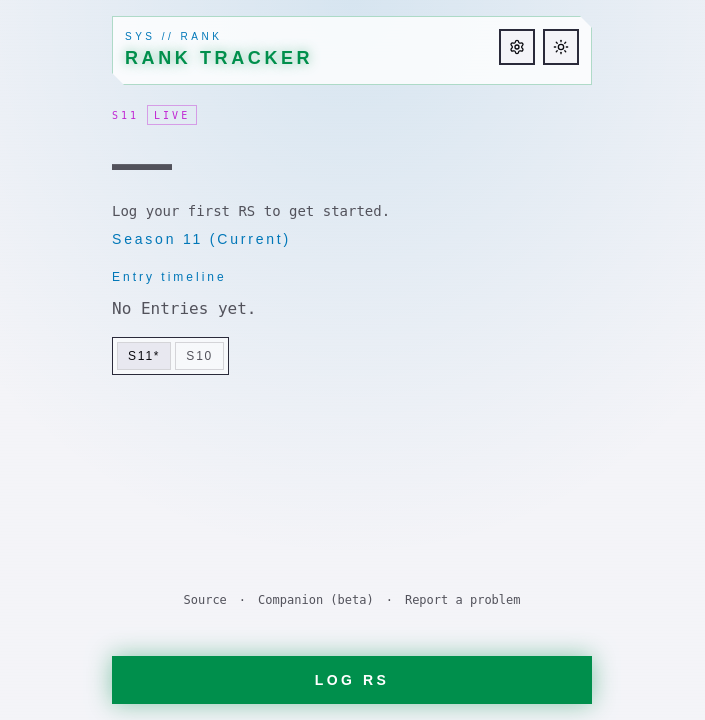
Test case: header eyebrow updates rank when selected season changes
Check: the text "SYS // RANK" is shown, box [125, 31, 222, 42]
Click the radio button labelled "S10" at (200, 356), box [175, 342, 224, 370]
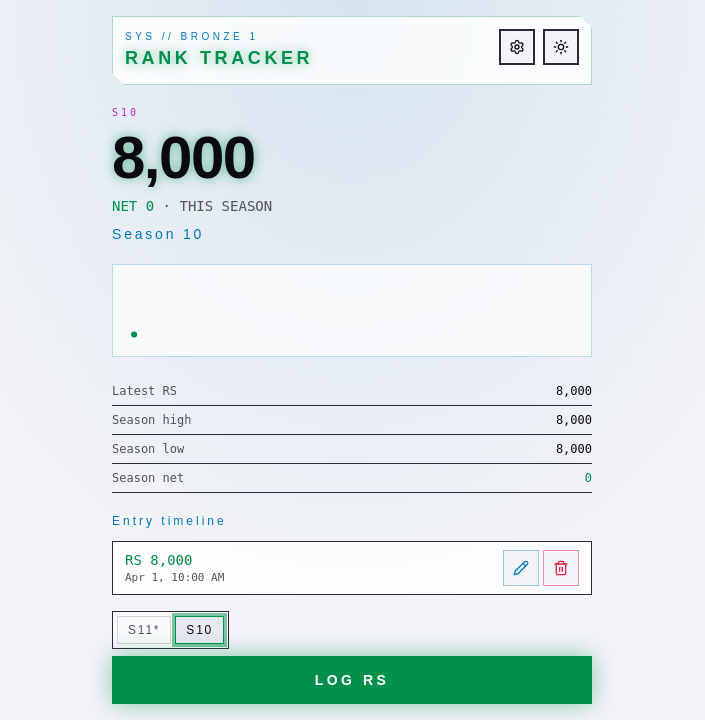
Check: the text "SYS // BRONZE 1" is shown, box [125, 31, 259, 42]
